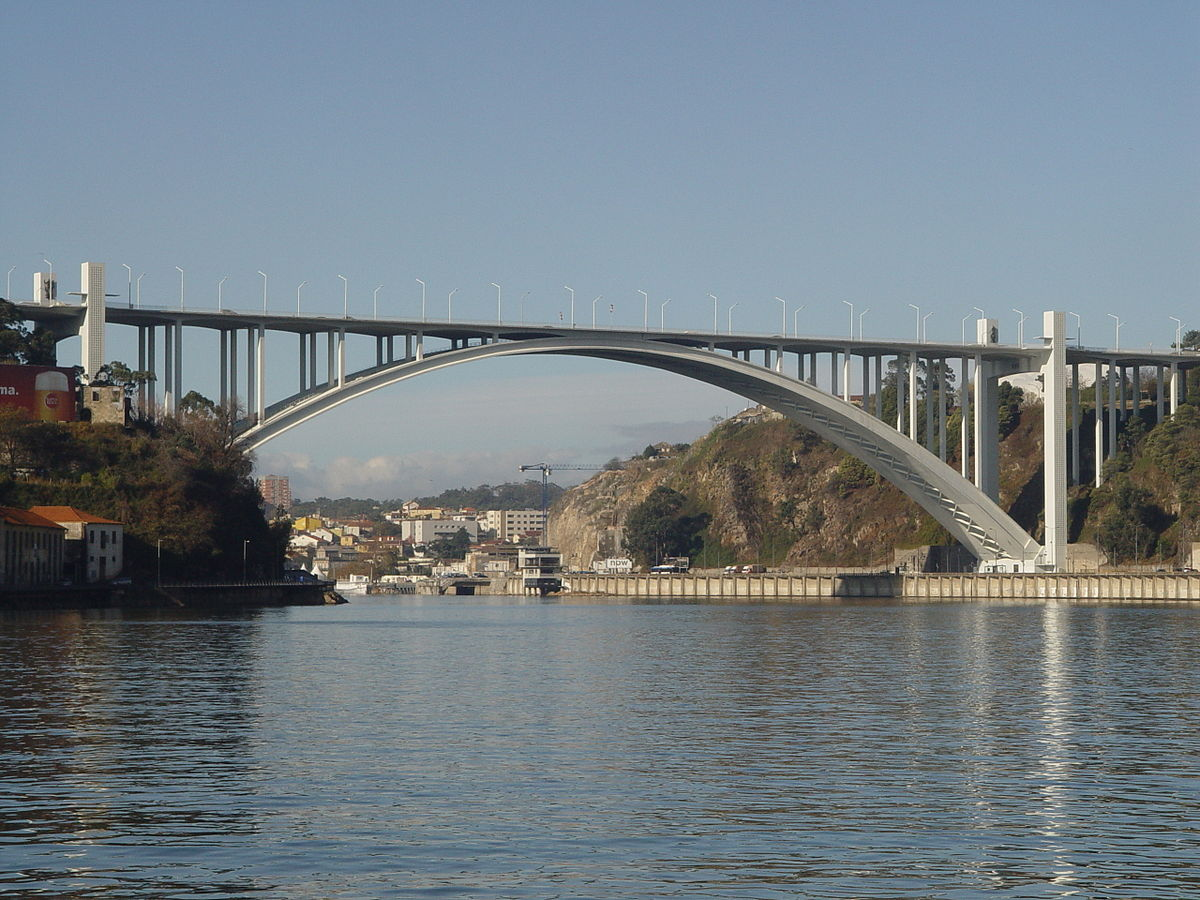arrabida: (0, 263, 1199, 576)
